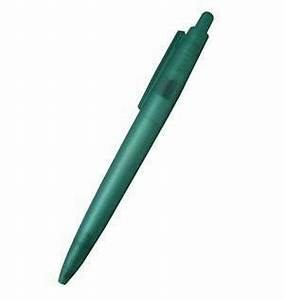pen: (59, 9, 213, 288)
